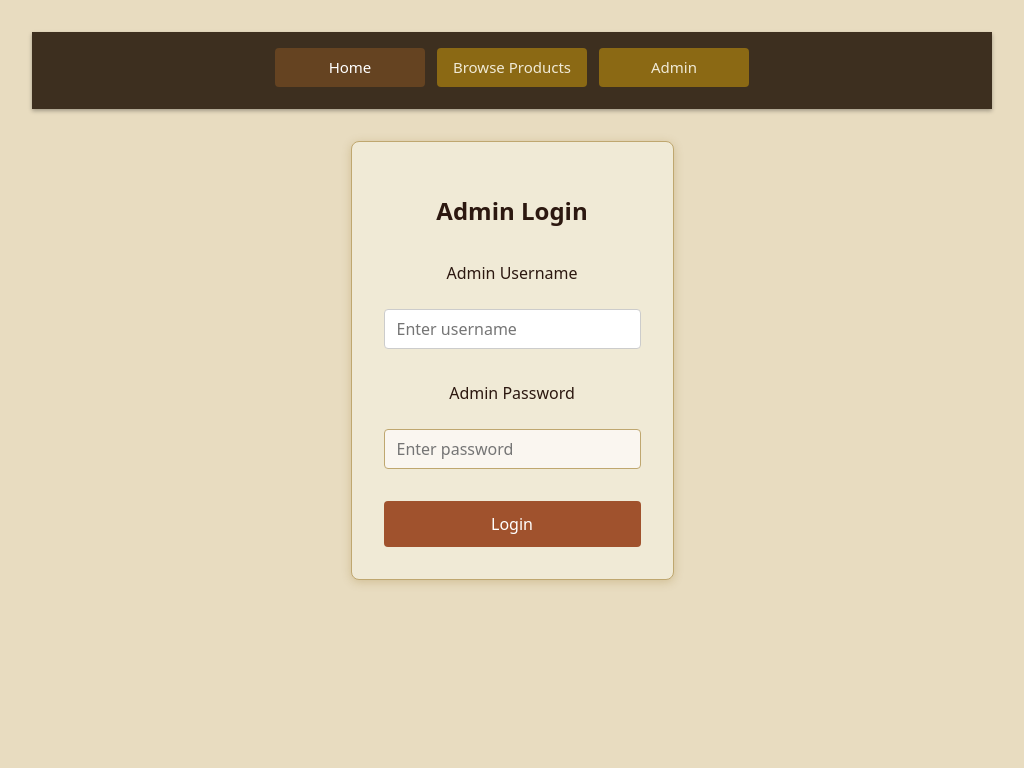
Test case: Admin Login › should show error message with incorrect credentials
In the field with placeholder "Enter username": (512, 329) [384,309,640,349], type "wrong"
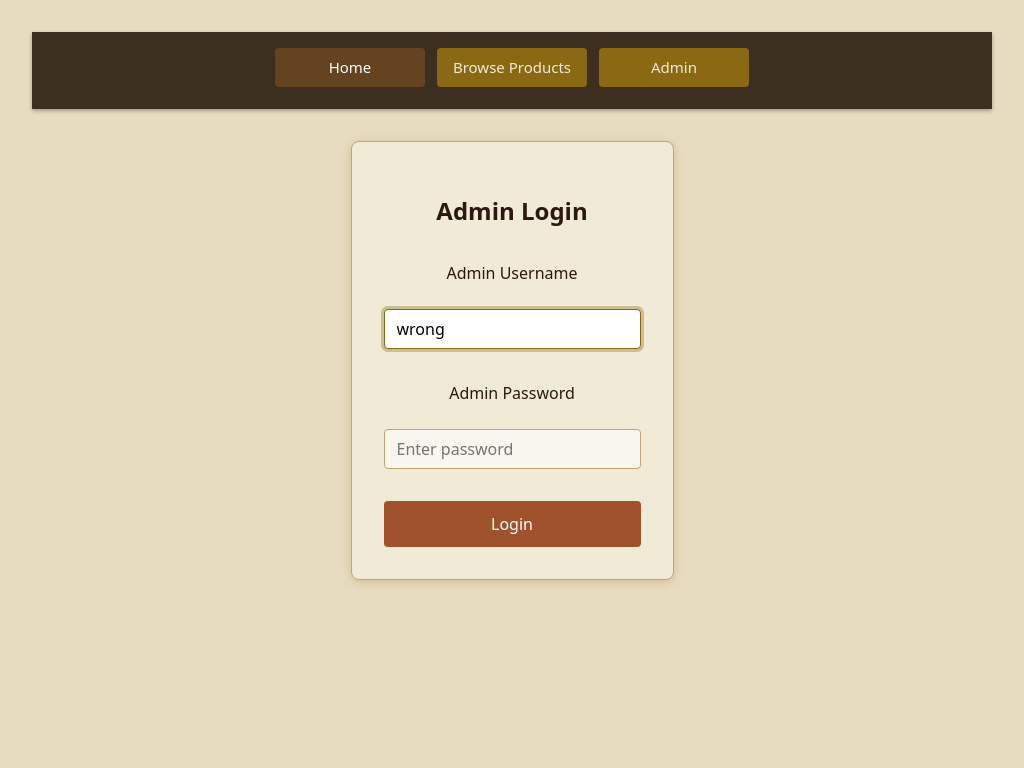
In the password field with placeholder "Enter password": (512, 449) [384,429,640,469], type "wrong123"
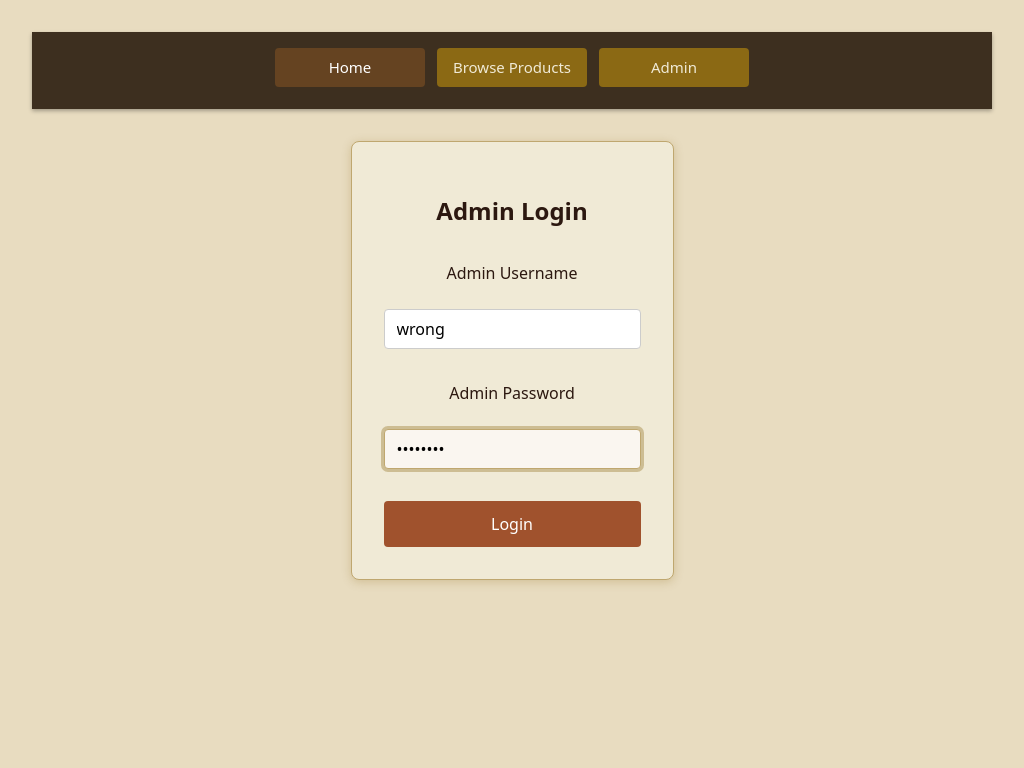
Click the button "Login": (512, 524) [384,501,640,547]
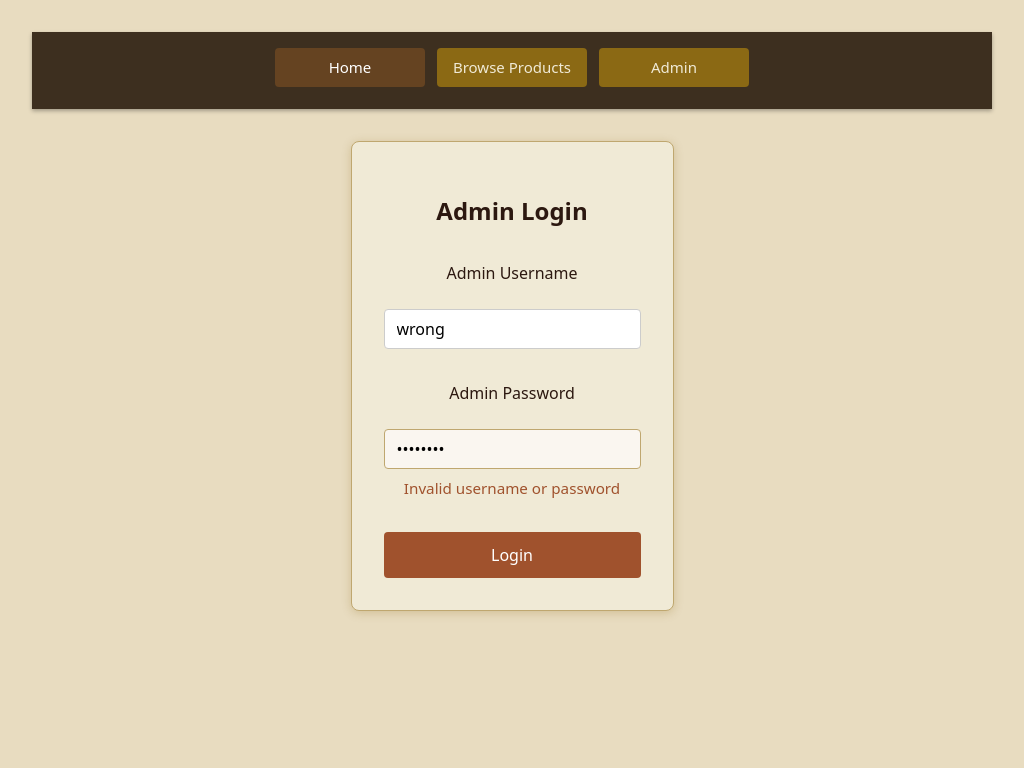
Expected: the text "Invalid username or password" is shown, [404,478,620,498]
